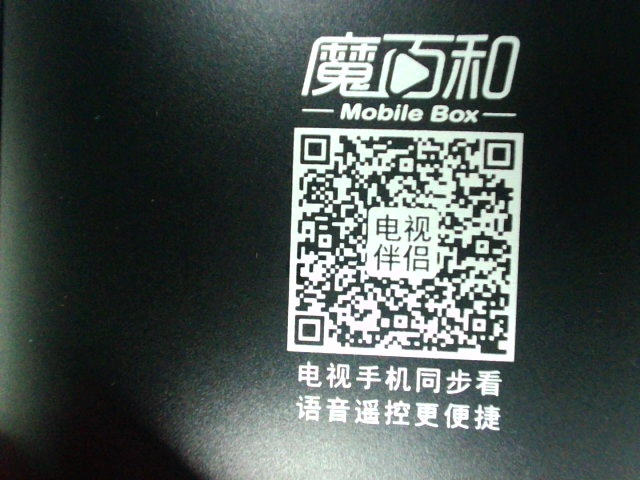AZ_MobileBox: (284, 29, 531, 429)
